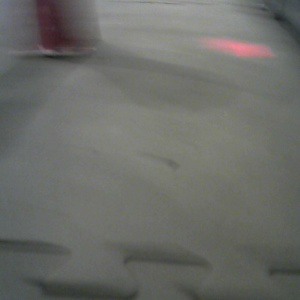Middle: (15, 1, 98, 59)
